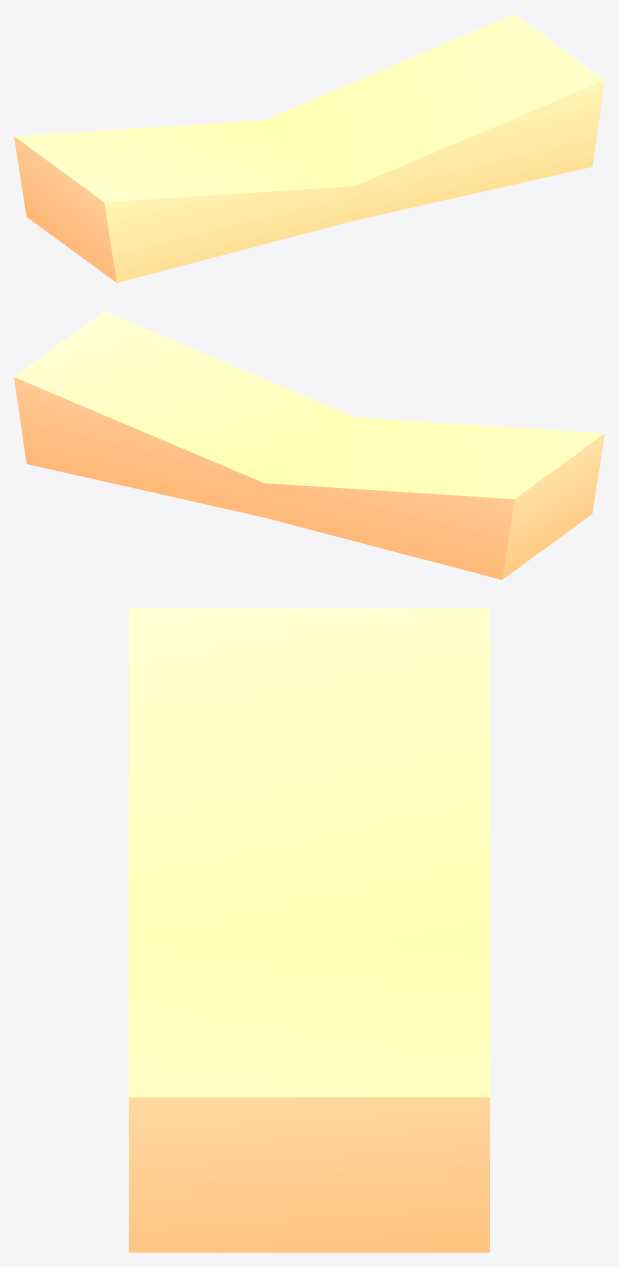
File: wood_guard_080_004.glb
3 views of the same model, one above another, from view 1: azimuth 30°, elevation 25°; view 2: azimuth 150°, elevation 25°; view 3: azimuth 270°, elevation 25° (orthographic). The views are drawn at different scales.
Visible parts, largest first — view 1: wood_guard_080.004; view 2: wood_guard_080.004; view 3: wood_guard_080.004.
Boxes of the visible parts, bbox=[...] form: wood_guard_080.004: bbox=[14, 14, 604, 282]; wood_guard_080.004: bbox=[14, 311, 604, 579]; wood_guard_080.004: bbox=[129, 608, 489, 1252].
Bounding box in the file's own units: 6.41 × 1.03 × 2.
Materials: 1 (1 with a texture image).
